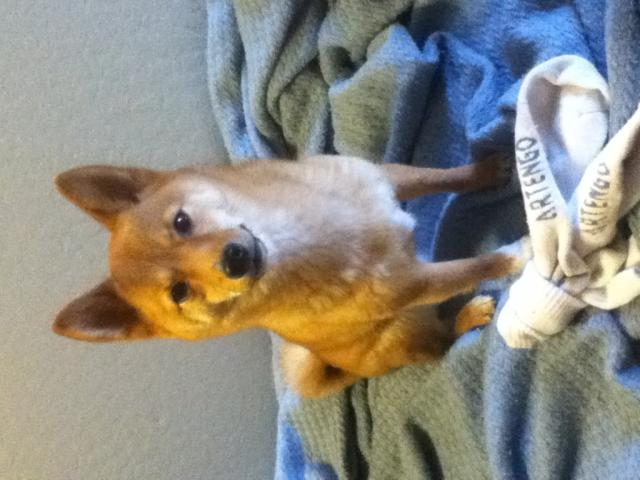Dog: (49, 150, 535, 403)
